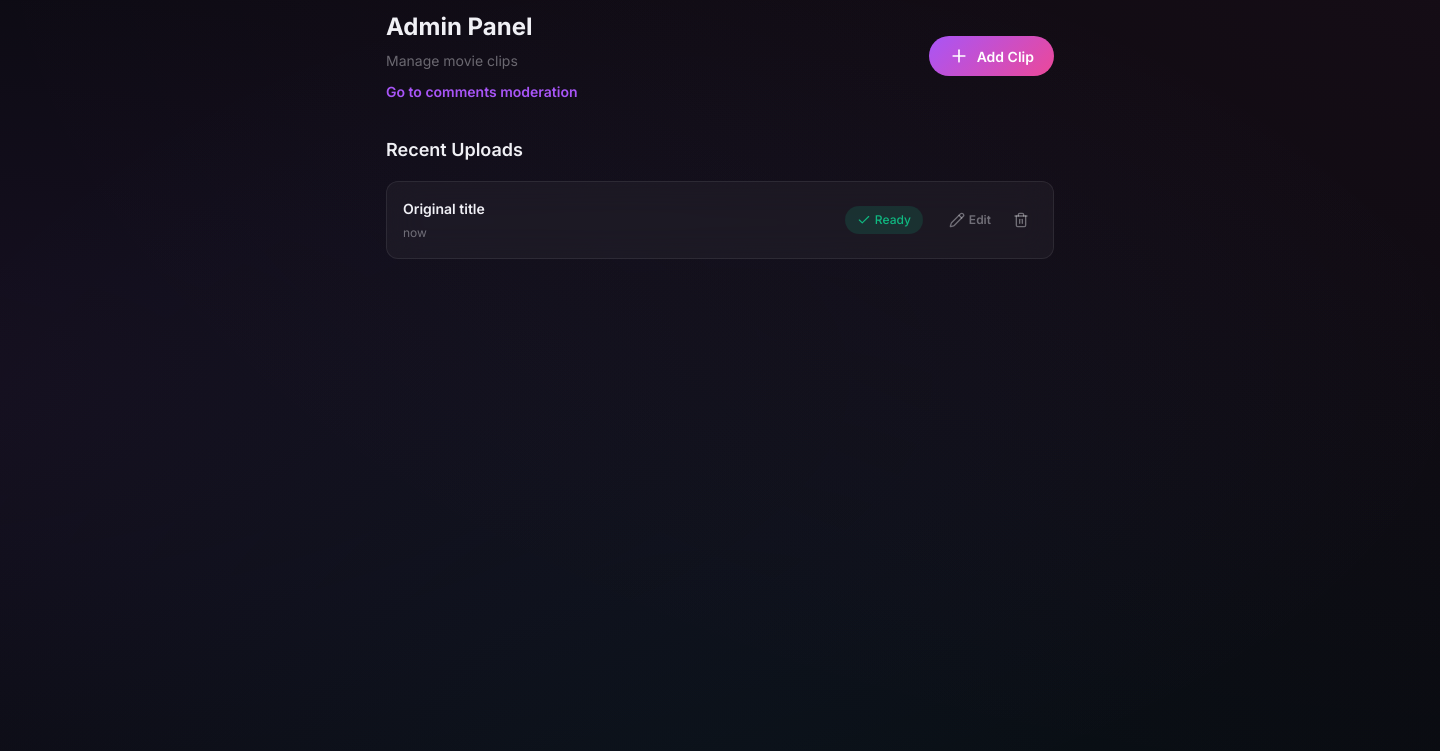
TASK-028: admin clip editing UI › cancels edit and resets form to create-state
Click the button "Edit".
click(970, 220)  # box [939,204,1001,236]
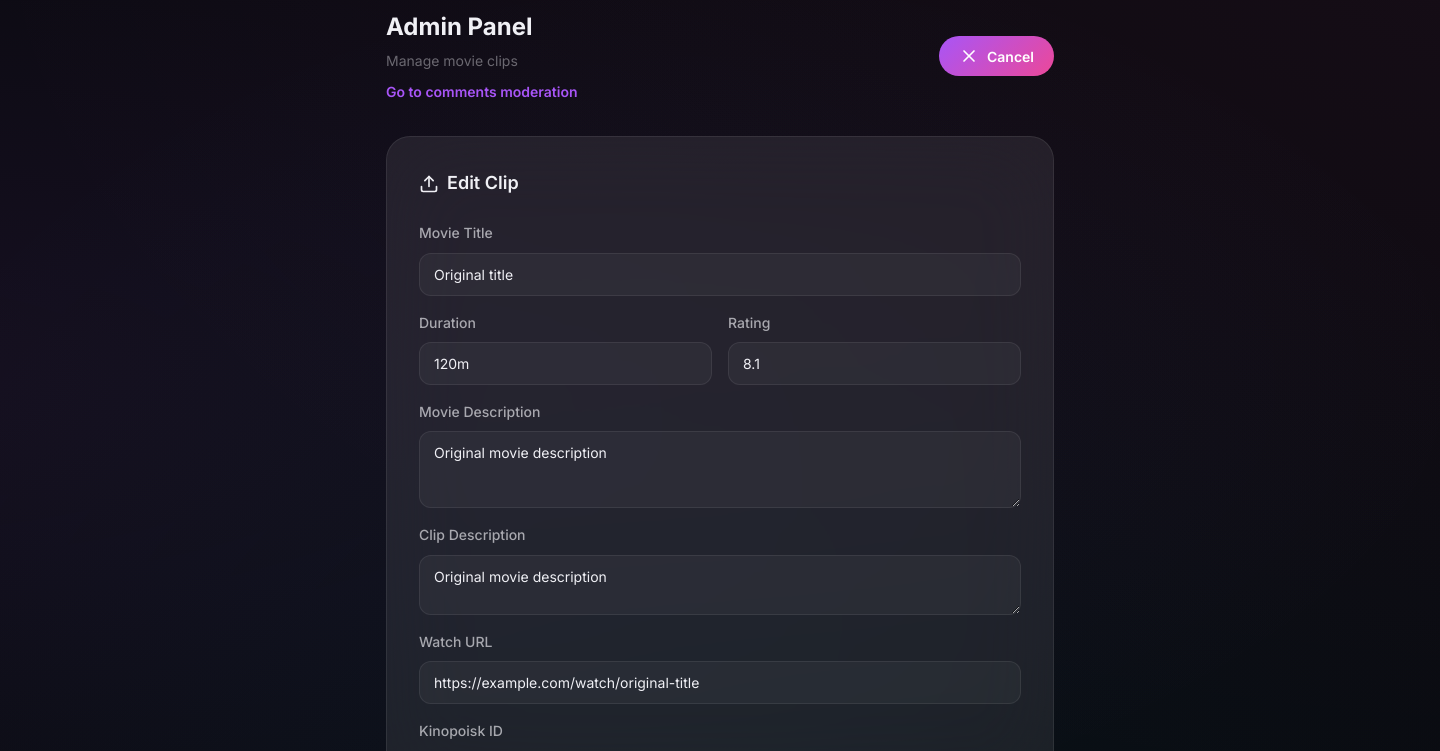
Replace the text in the field with placeholder "Enter movie title" below "Movie Title" with "Changed while editing" at (720, 274), box [419,253,1021,296]
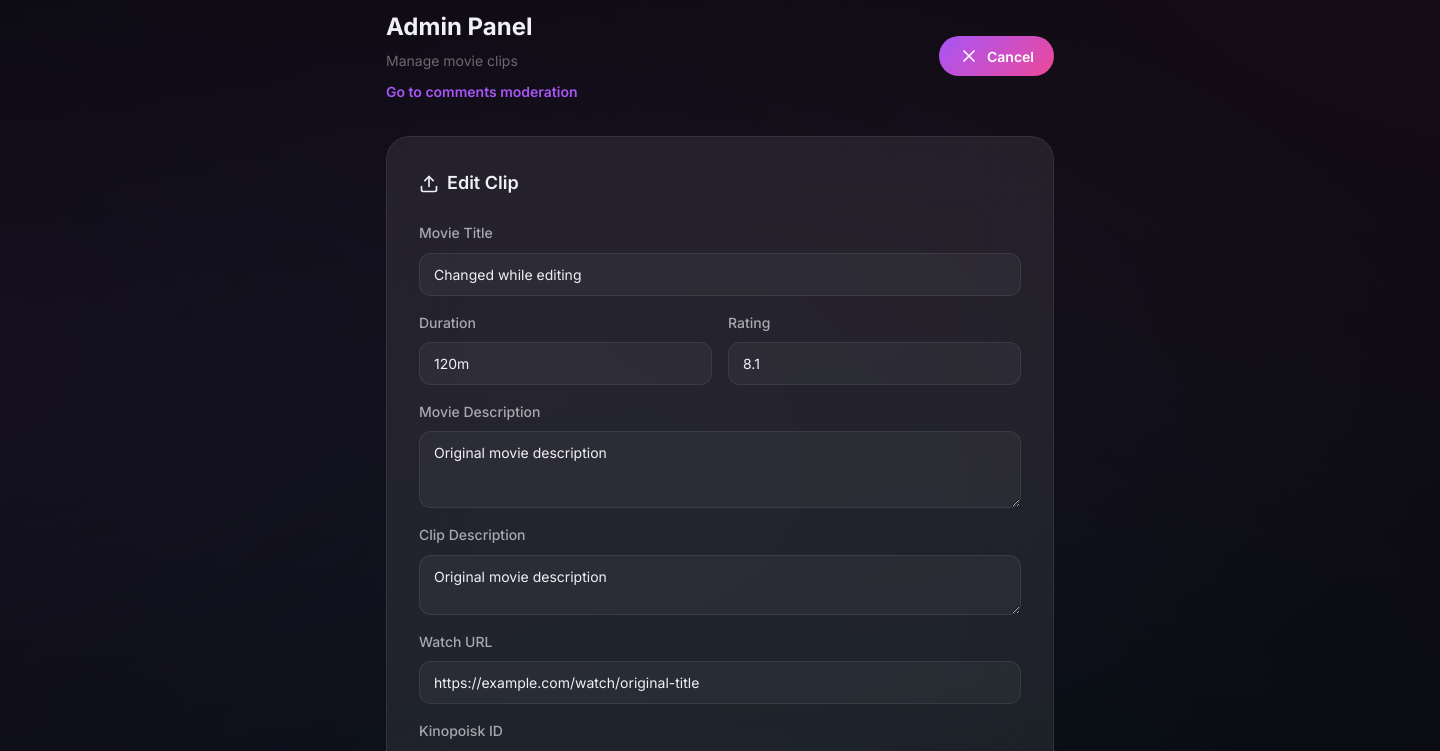
Click the button "Cancel".
click(996, 56)  # box [939,36,1054,76]
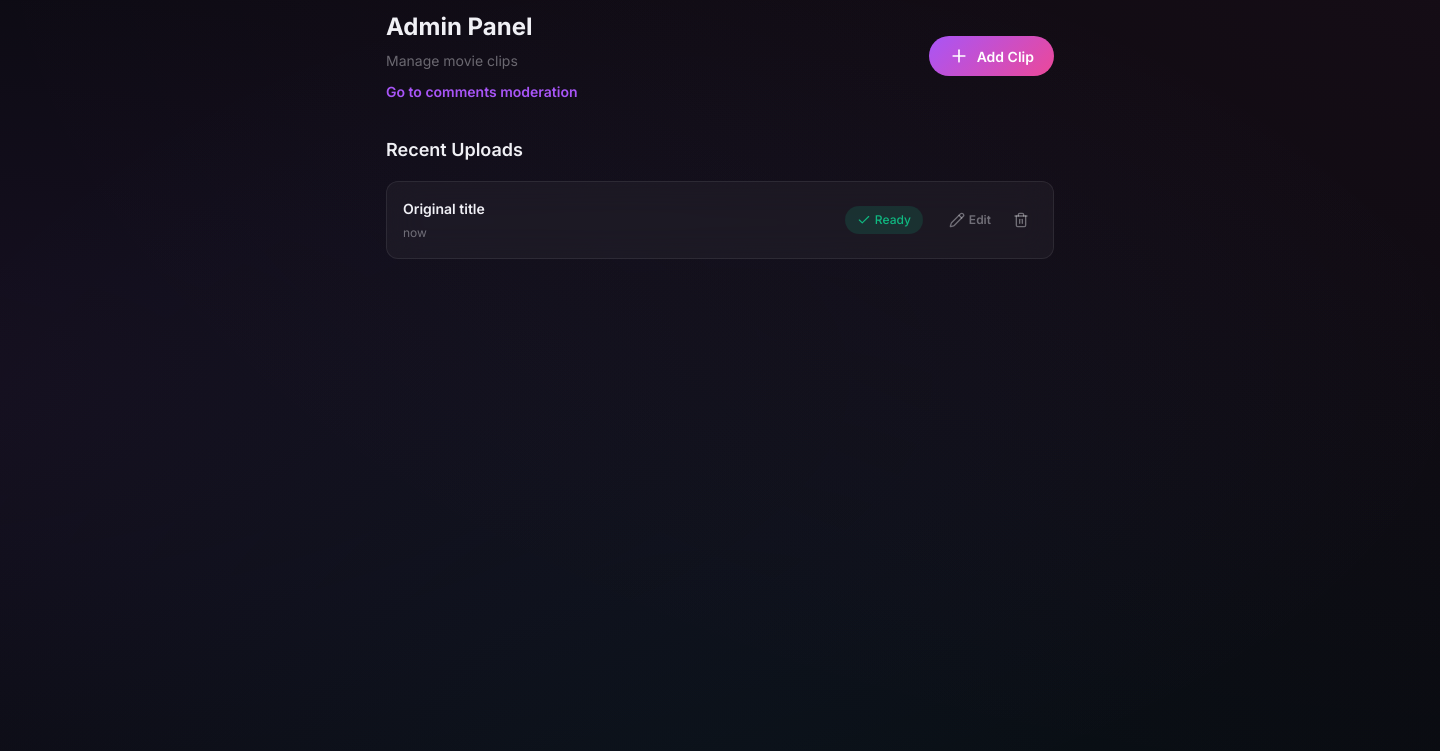
Click the button "Add Clip".
click(991, 56)  # box [929,36,1054,76]
(page scrolled)
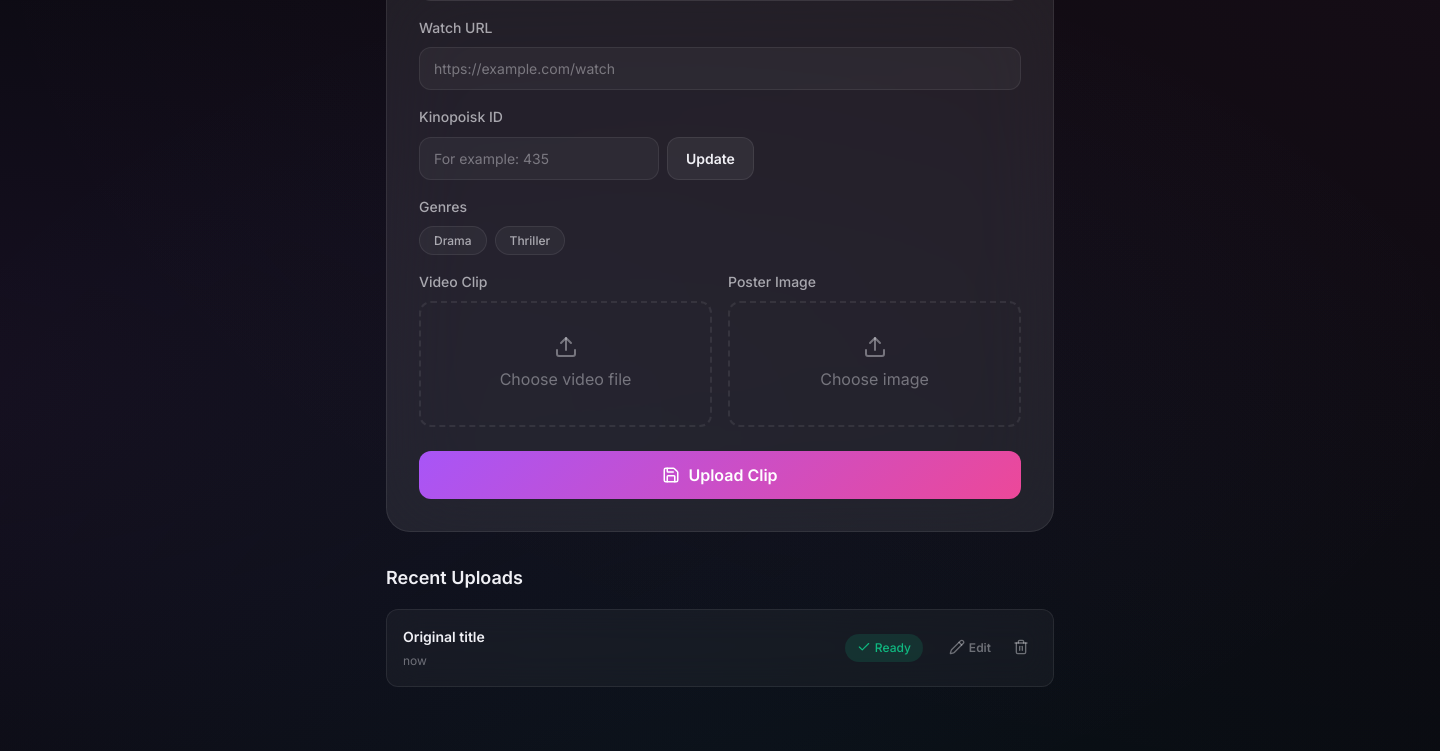
Result: the button "Upload Clip" is shown at [419,451,1021,499]
